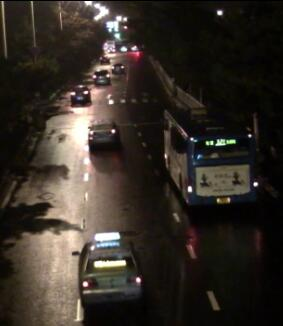bus: (161, 105, 257, 212)
car: (71, 229, 144, 305), (84, 121, 120, 146), (70, 85, 92, 106), (91, 69, 110, 85), (97, 51, 113, 65), (110, 60, 125, 73)
